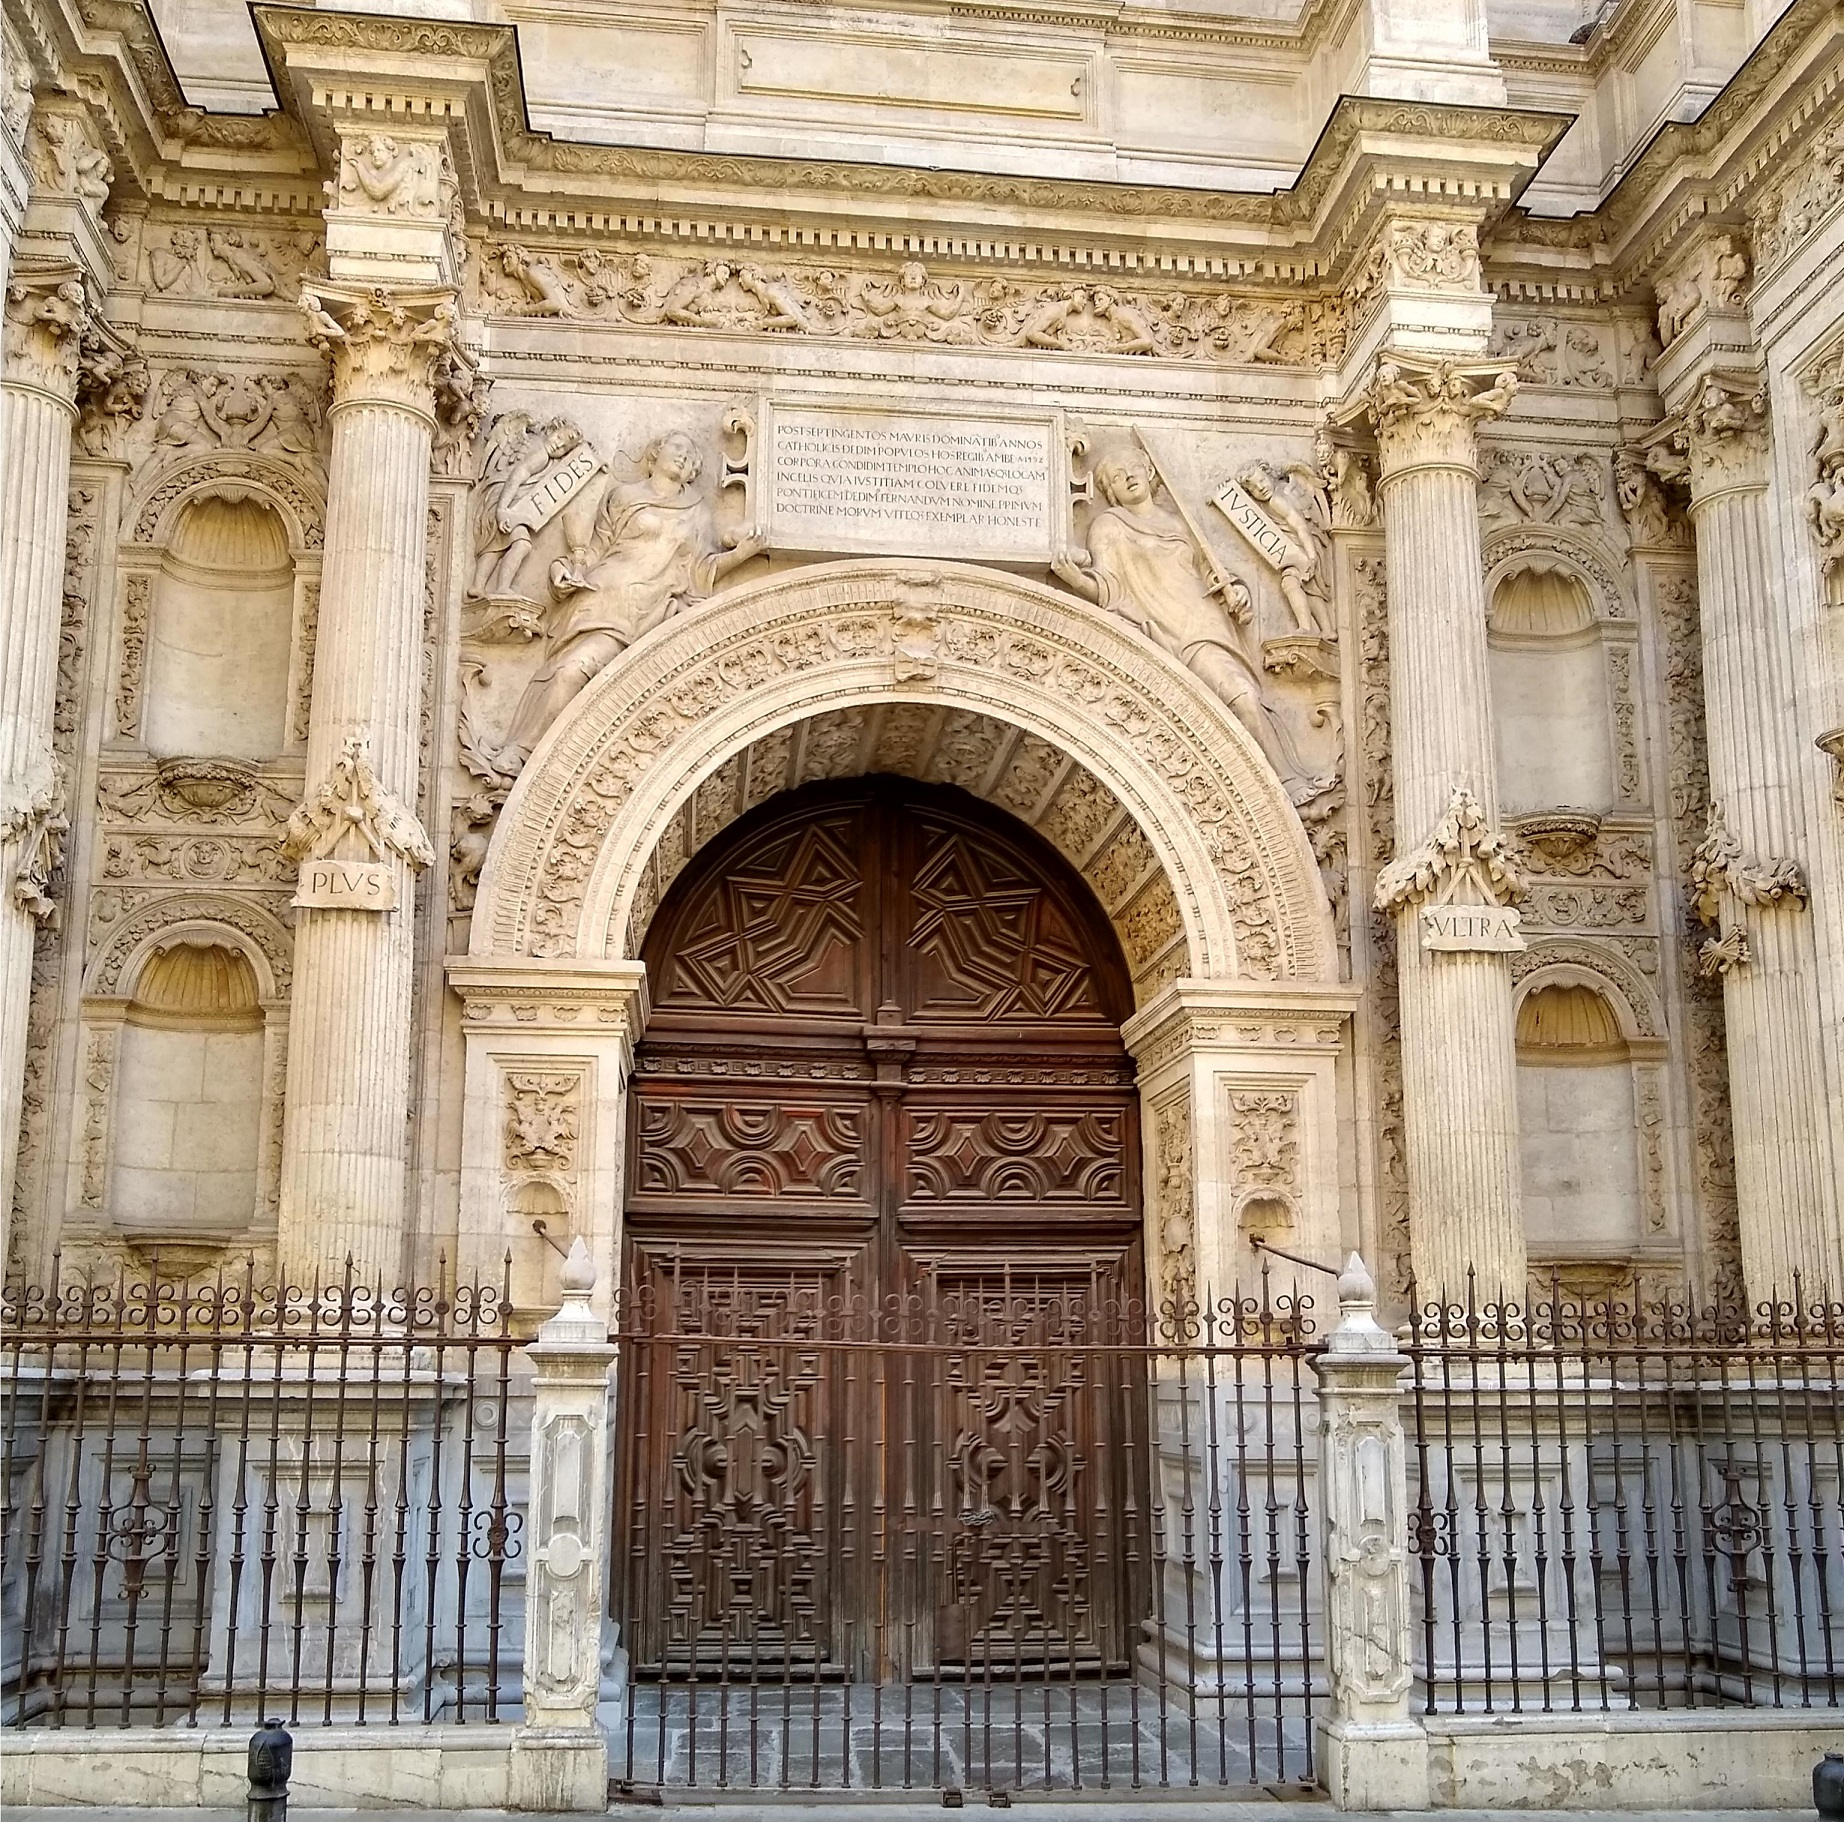arco-medio-punto: (581, 649, 1230, 1066)
